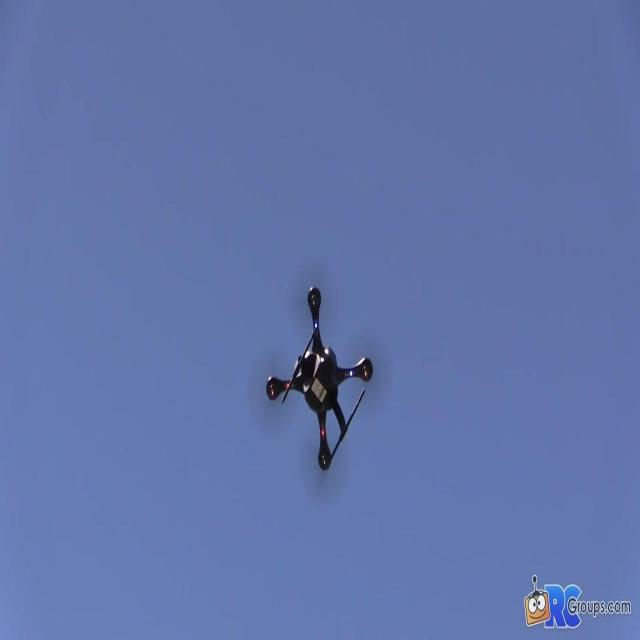drone: (264, 284, 376, 472)
